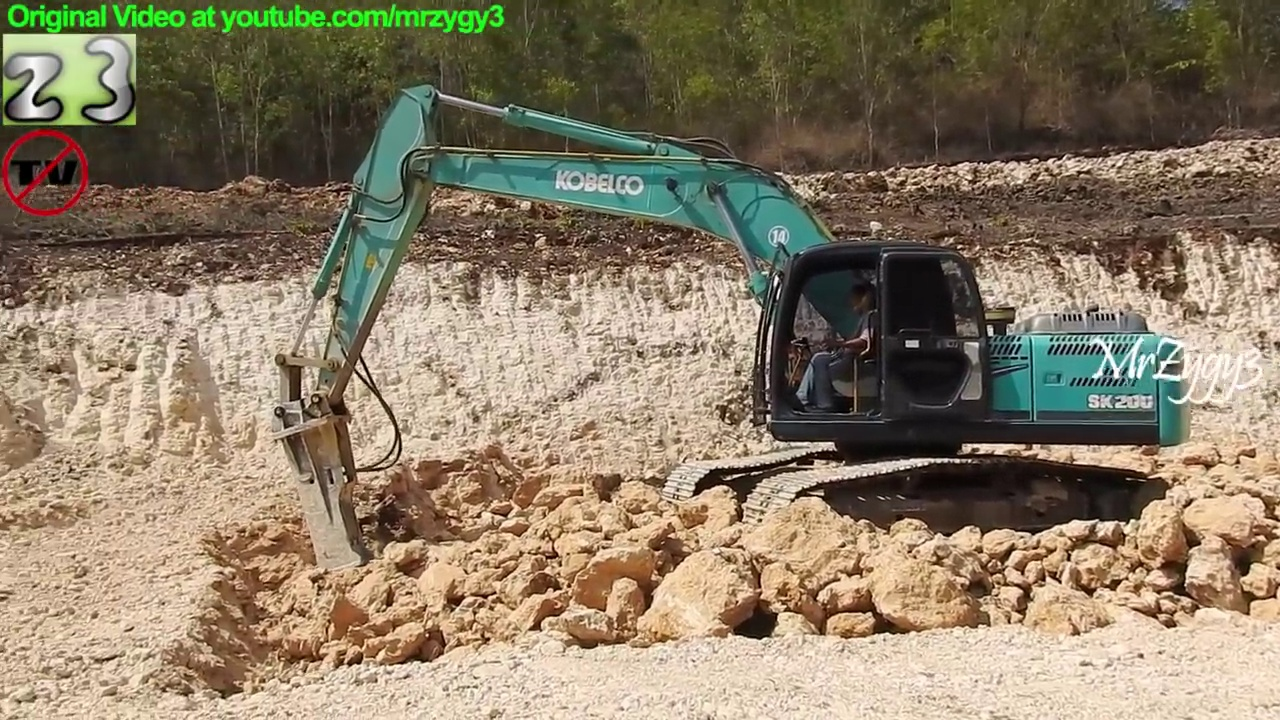excavator breaker: (261, 76, 1196, 590)
